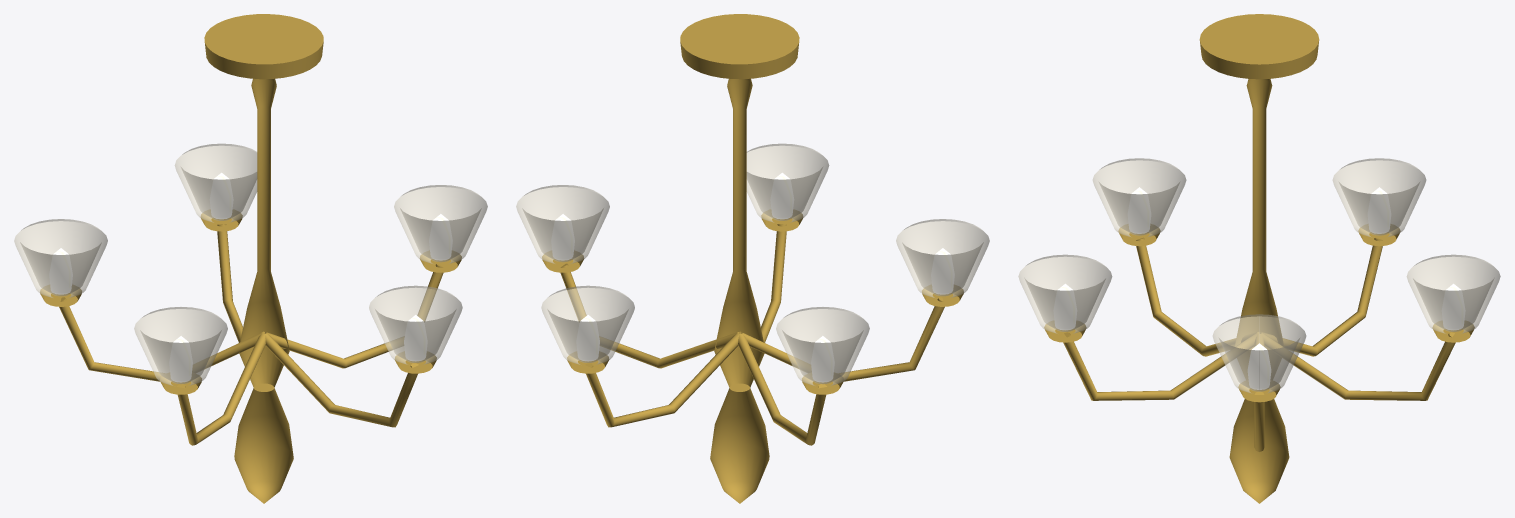
File: DenChum_5Tay.glb
3 renders of one model, left to right at view 1: azimuth 30°, elevation 25°; view 2: azimuth 150°, elevation 25°; view 3: azimuth 270°, elevation 25°, orthographic.
Parts seen in each view (by area): view 1: geometry_0; view 2: geometry_0; view 3: geometry_0.
Part boxes in pixels (x1=…): geometry_0: x1=14, y1=14, x2=487, y2=503; geometry_0: x1=516, y1=14, x2=989, y2=503; geometry_0: x1=1018, y1=14, x2=1500, y2=503.
Bounding box in the file's own units: 0.5421 × 0.6 × 0.5643.
